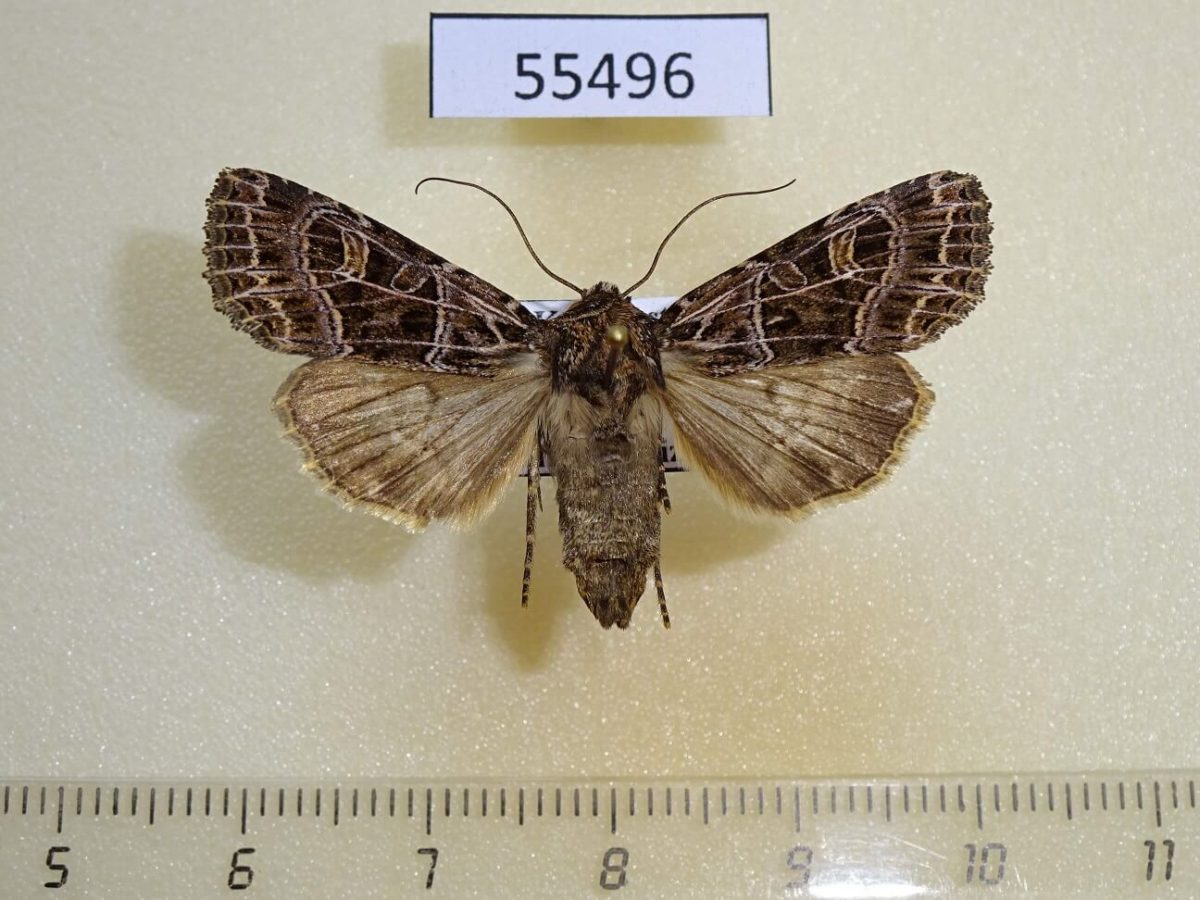Noctuidae: (196, 161, 1000, 630)
